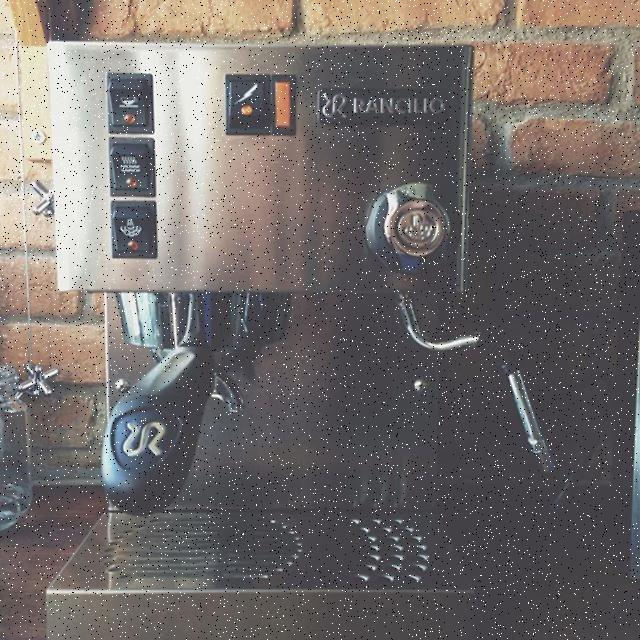Coffee-Machine: (26, 16, 528, 626)
